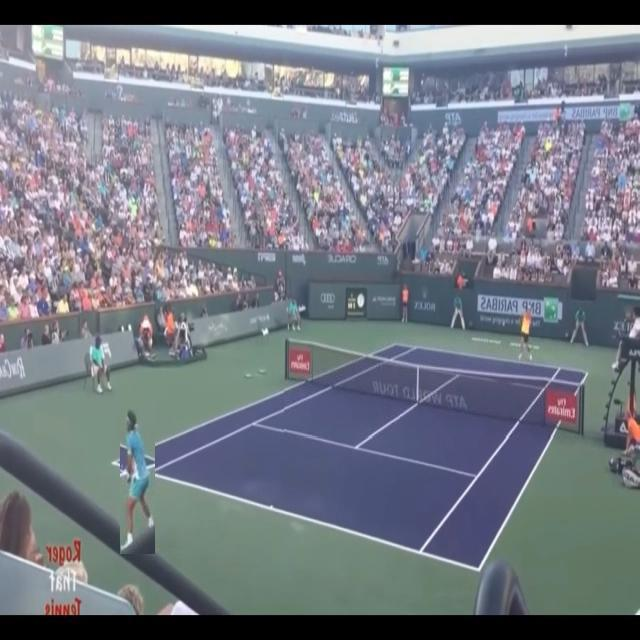court: (111, 344, 588, 573)
net: (284, 338, 583, 438)
player: (120, 408, 155, 554)
